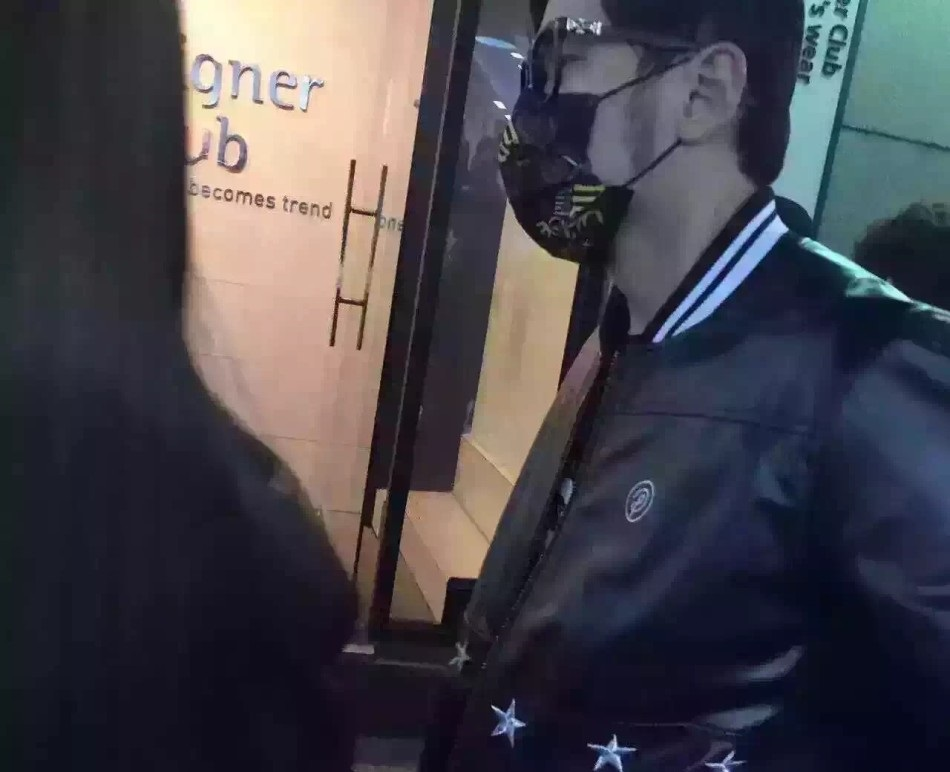face_mask: (516, 1, 657, 228)
